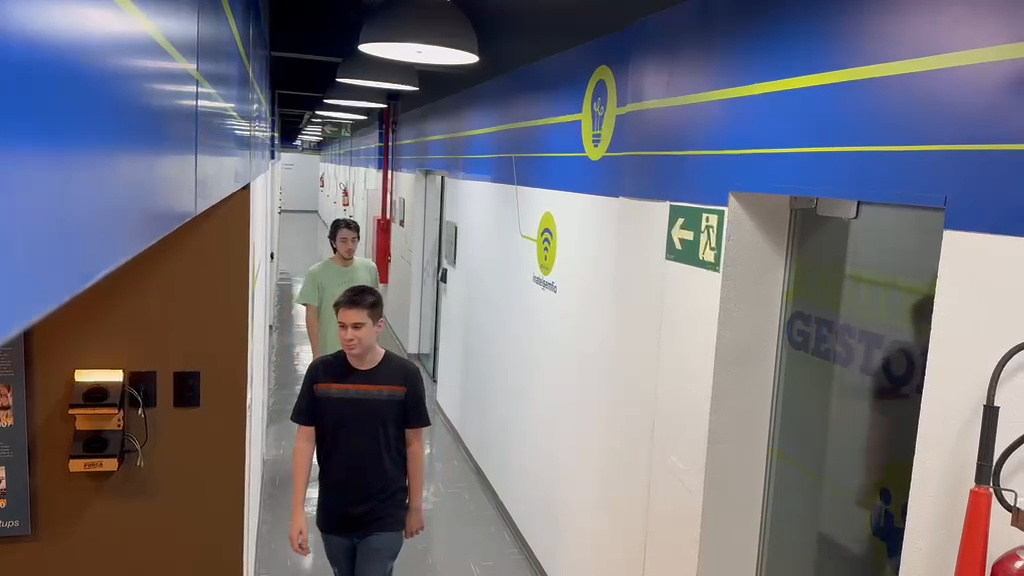person: (287, 284, 432, 572), (295, 216, 382, 362)
